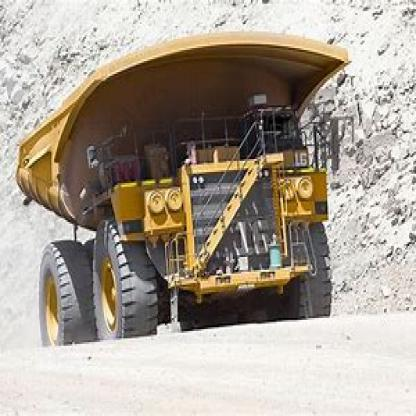dump_truck: (15, 28, 334, 340)
